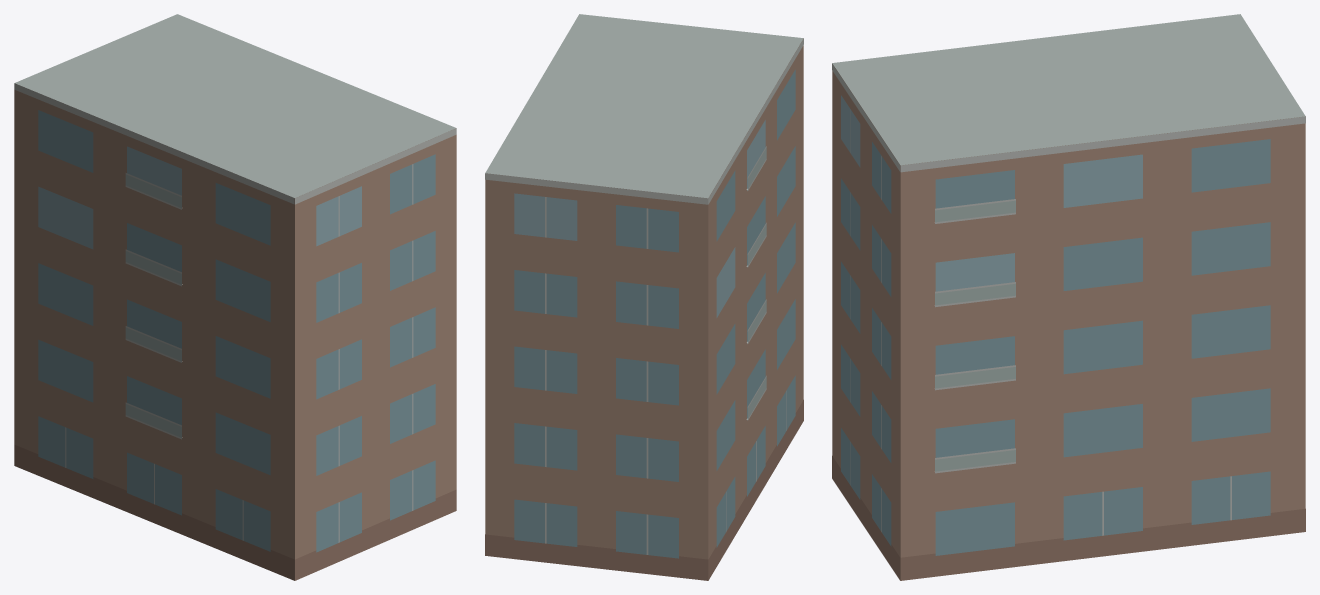
Rendered from survey-upis-32562647.glb.
The picture shows the model from 3 angles, left to right: view 1: azimuth 30°, elevation 25°; view 2: azimuth 150°, elevation 25°; view 3: azimuth 270°, elevation 25°; orthographic projection. The views are drawn at different scales.
Parts seen in each view (by area): view 1: survey-upis-32562647.tmp; view 2: survey-upis-32562647.tmp; view 3: survey-upis-32562647.tmp.
Boxes of the visible parts, x1,y1,x2,y2 form: survey-upis-32562647.tmp: (14,14,456,580); survey-upis-32562647.tmp: (485,14,803,580); survey-upis-32562647.tmp: (832,14,1305,580).
Size of the model in its own units: 11.26 by 14.4 by 14.89.
